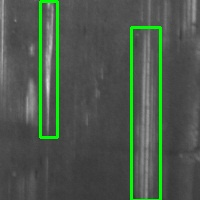scratches: (131, 27, 160, 200), (40, 1, 57, 137)
